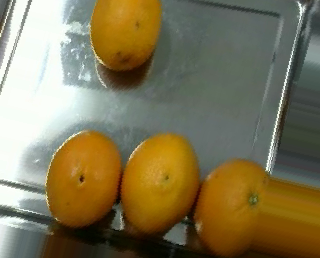Orange: (117, 130, 198, 231), (45, 129, 120, 225), (89, 1, 163, 69)
